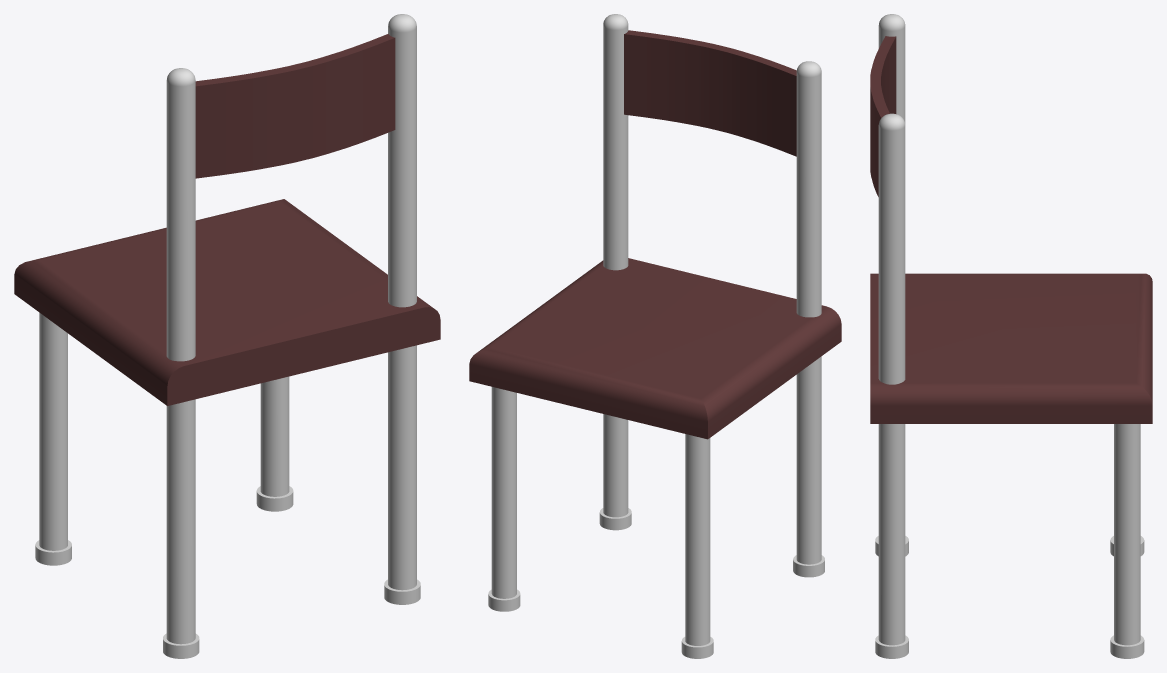
The model's file is Chaise2_5.fbx.
The picture shows the model from 3 angles, left to right: view 1: azimuth 30°, elevation 25°; view 2: azimuth 150°, elevation 25°; view 3: azimuth 270°, elevation 25°; orthographic projection. The views are drawn at different scales.
Parts seen in each view (by area): view 1: pCube2671, pCube2670, pCylinder1662, pCylinder1663, pCylinder1664, pCylinder1665; view 2: pCube2671, pCube2670, pCylinder1662, pCylinder1663, pCylinder1665, pCylinder1664; view 3: pCube2671, pCylinder1663, pCylinder1665, pCube2670, pCylinder1662.
Part boxes in pixels (<box>): pCube2671: <box>14,199,440,405</box>; pCube2670: <box>195,34,395,178</box>; pCylinder1662: <box>163,68,199,658</box>; pCylinder1663: <box>384,14,420,604</box>; pCylinder1664: <box>35,312,71,565</box>; pCylinder1665: <box>256,376,293,511</box>; pCube2671: <box>469,258,841,439</box>; pCube2670: <box>624,30,796,156</box>; pCylinder1662: <box>793,61,824,577</box>; pCylinder1663: <box>599,14,631,530</box>; pCylinder1665: <box>488,387,520,611</box>; pCylinder1664: <box>681,434,713,658</box>; pCube2671: <box>870,273,1152,423</box>; pCylinder1663: <box>875,113,908,658</box>; pCylinder1665: <box>1110,424,1144,658</box>; pCube2670: <box>870,36,896,196</box>; pCylinder1662: <box>875,14,908,556</box>.
Bounding box in the file's own units: 40.39 × 82.1 × 39.23.
